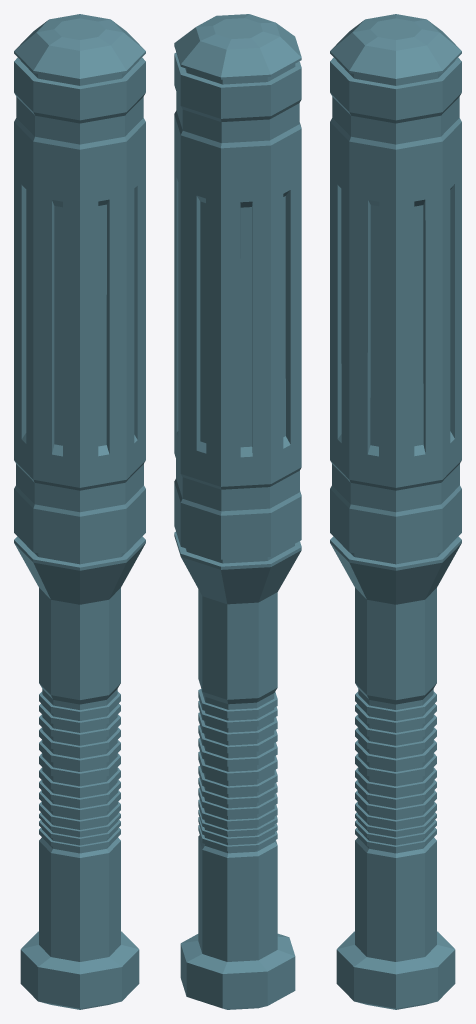
File: bat.fbx
3 views of the same model, side by side, from view 1: azimuth 90°, elevation 25°; view 2: azimuth 210°, elevation 25°; view 3: azimuth 270°, elevation 25° (orthographic).
Visible parts, largest first — view 1: pCylinder1; view 2: pCylinder1; view 3: pCylinder1.
Boxes of the visible parts, x1,y1,x2,y2 form: pCylinder1: (14, 14, 145, 1009); pCylinder1: (174, 14, 301, 1009); pCylinder1: (330, 14, 461, 1009).
Size of the model in its own units: 2.22 by 17.92 by 2.22.
